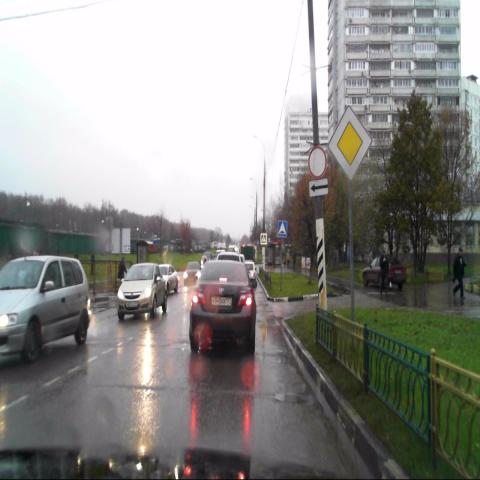3_2: (309, 146, 326, 177)
8_3_2: (309, 178, 328, 196)
